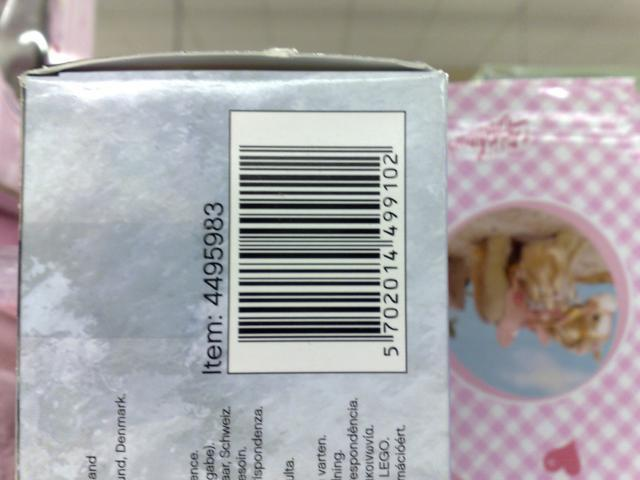Barcode: (229, 110, 406, 371)
